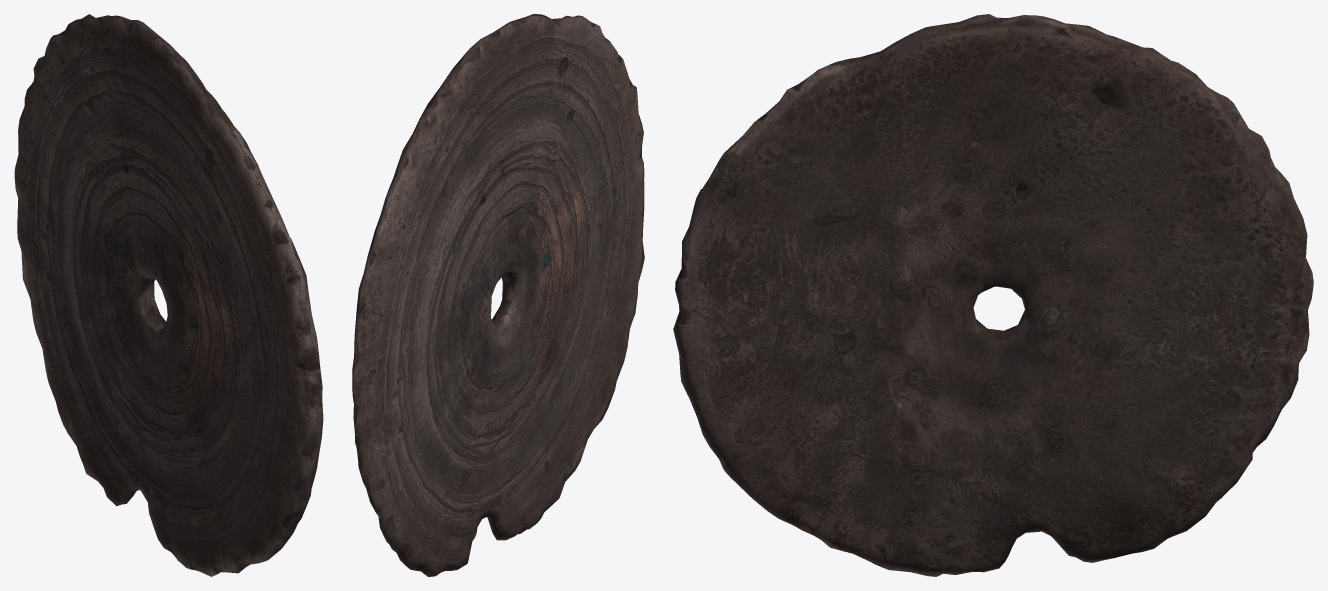
The model's file is disk_low_re.glb.
The picture shows the model from 3 angles, left to right: view 1: azimuth 30°, elevation 25°; view 2: azimuth 150°, elevation 25°; view 3: azimuth 270°, elevation 25°; orthographic projection. The views are drawn at different scales.
Parts seen in each view (by area): view 1: Model; view 2: Model; view 3: Model.
Part boxes in pixels (<box>): Model: <box>14,14,323,576</box>; Model: <box>352,14,644,576</box>; Model: <box>673,14,1313,576</box>.
Size of the model in its own units: 0.0511 by 0.7934 by 0.8183.
1 material, 1 textured.
